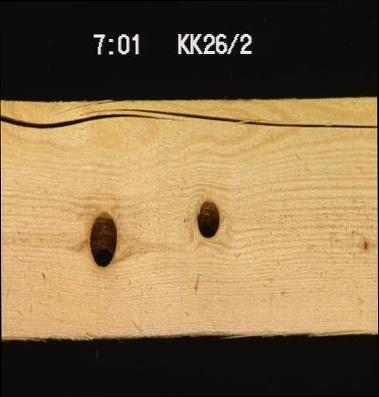split: (0, 104, 377, 132)
wave: (188, 316, 378, 343)
